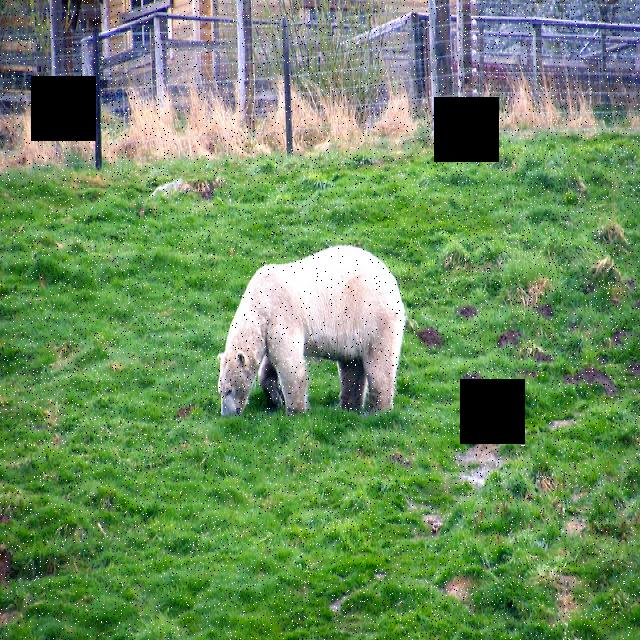Bear: (207, 231, 413, 416)
